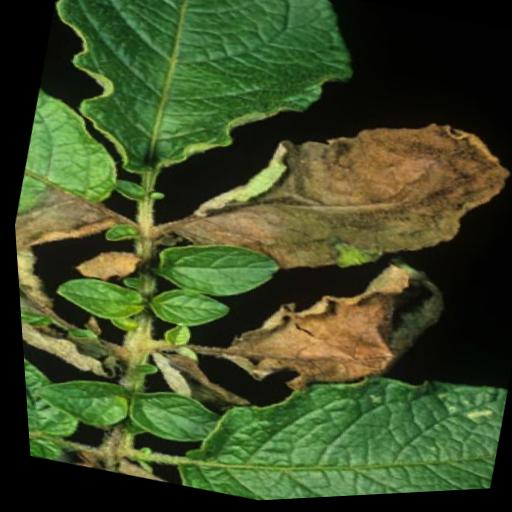Late Blight: (134, 53, 512, 332), (198, 221, 455, 431)
